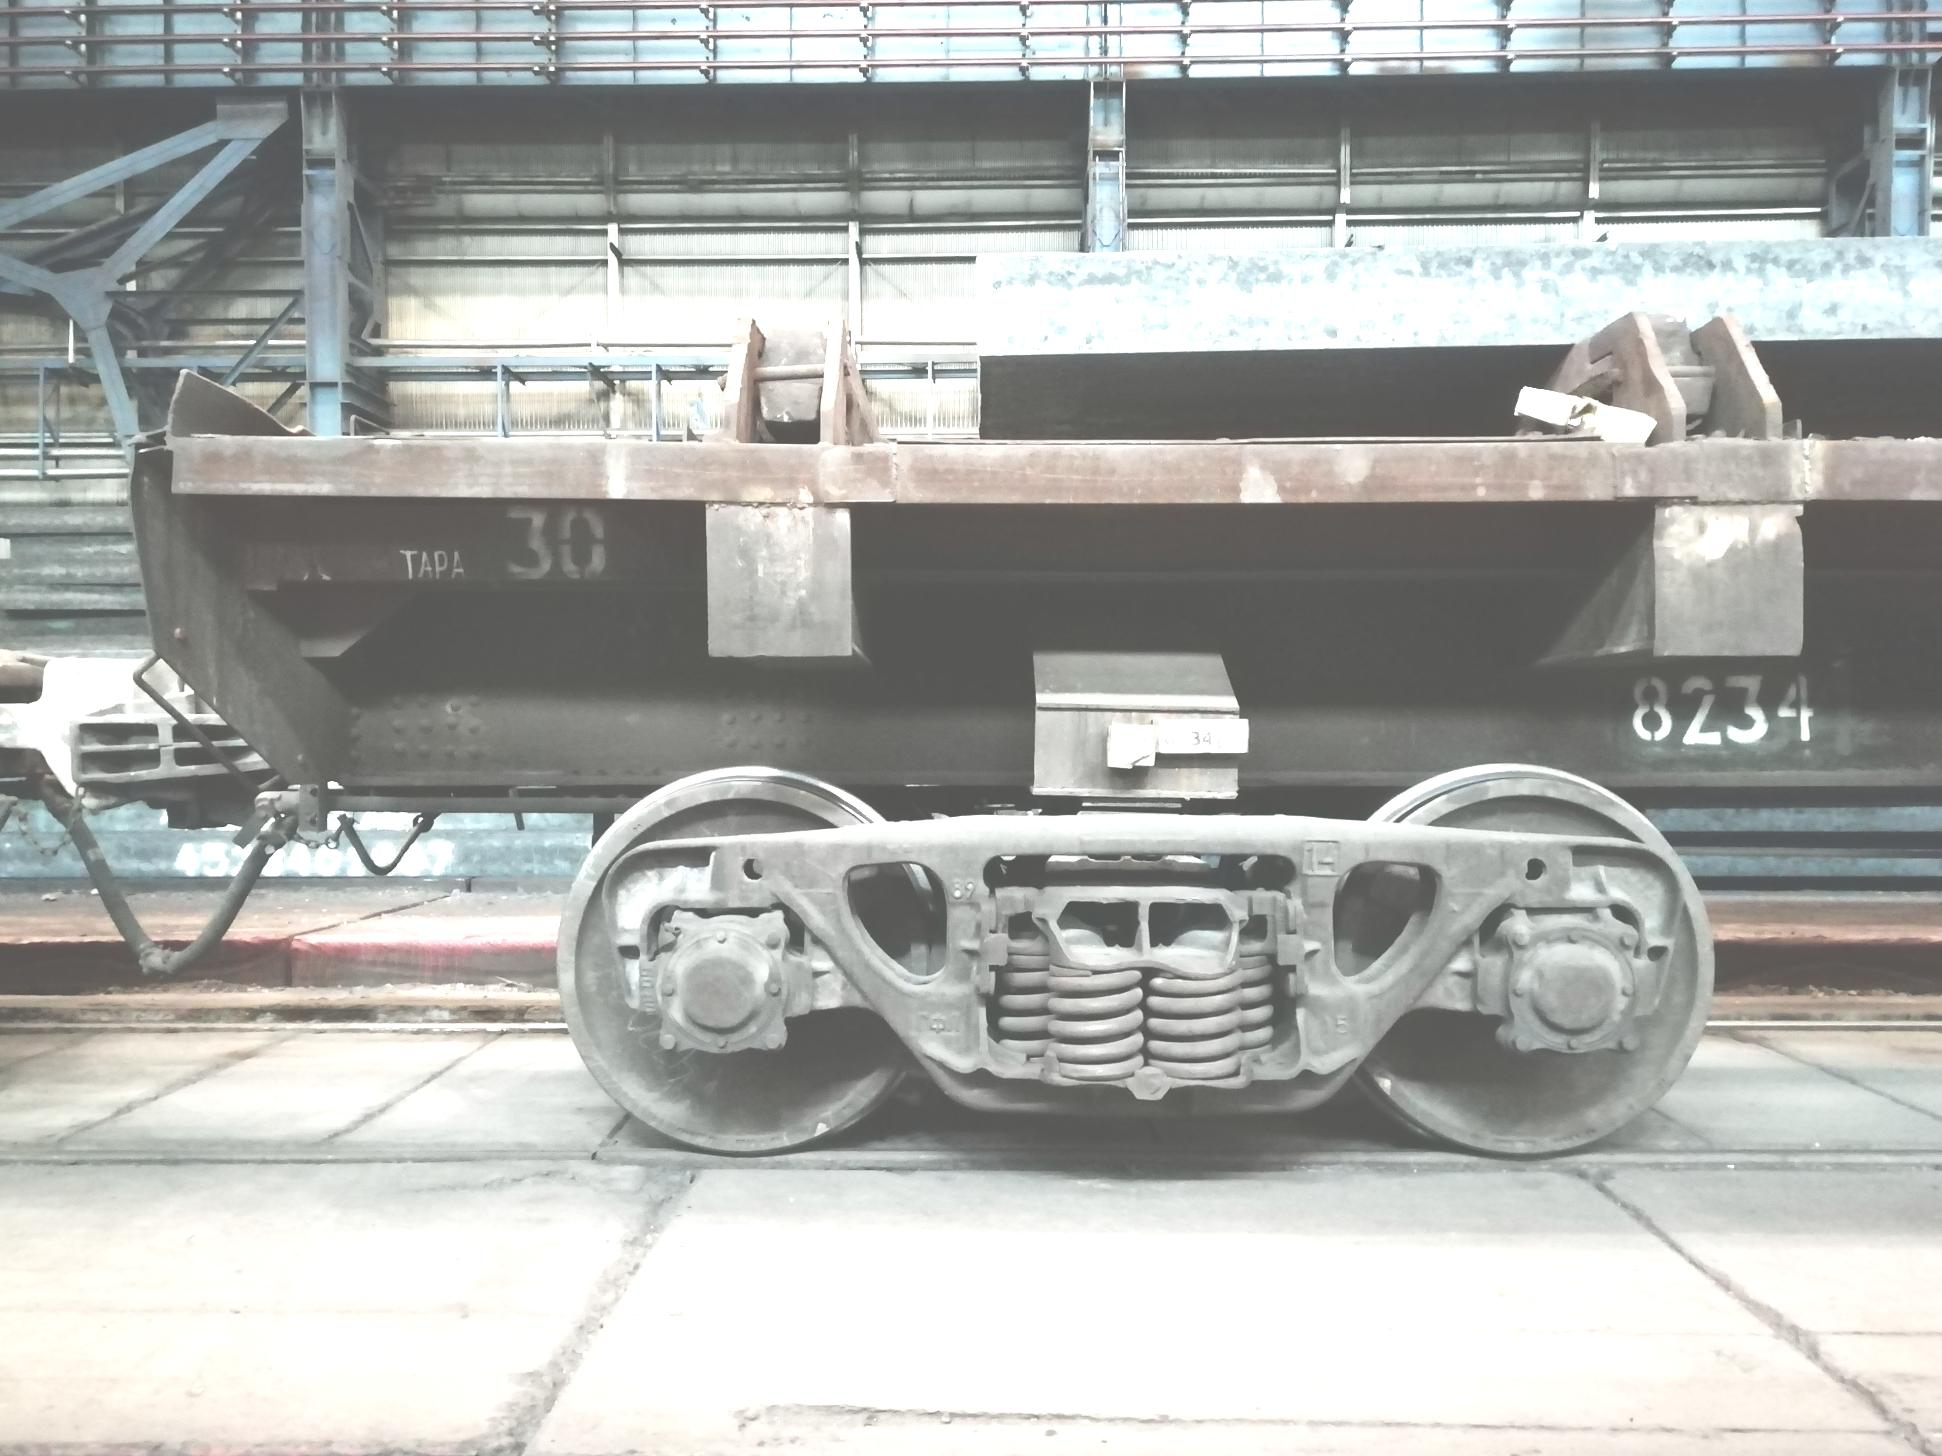data matrix: (1214, 720, 1251, 756)
